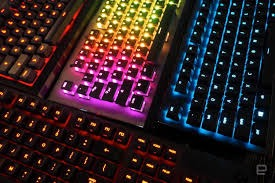keyboard: (0, 90, 235, 183), (60, 0, 186, 124), (191, 1, 275, 154)
